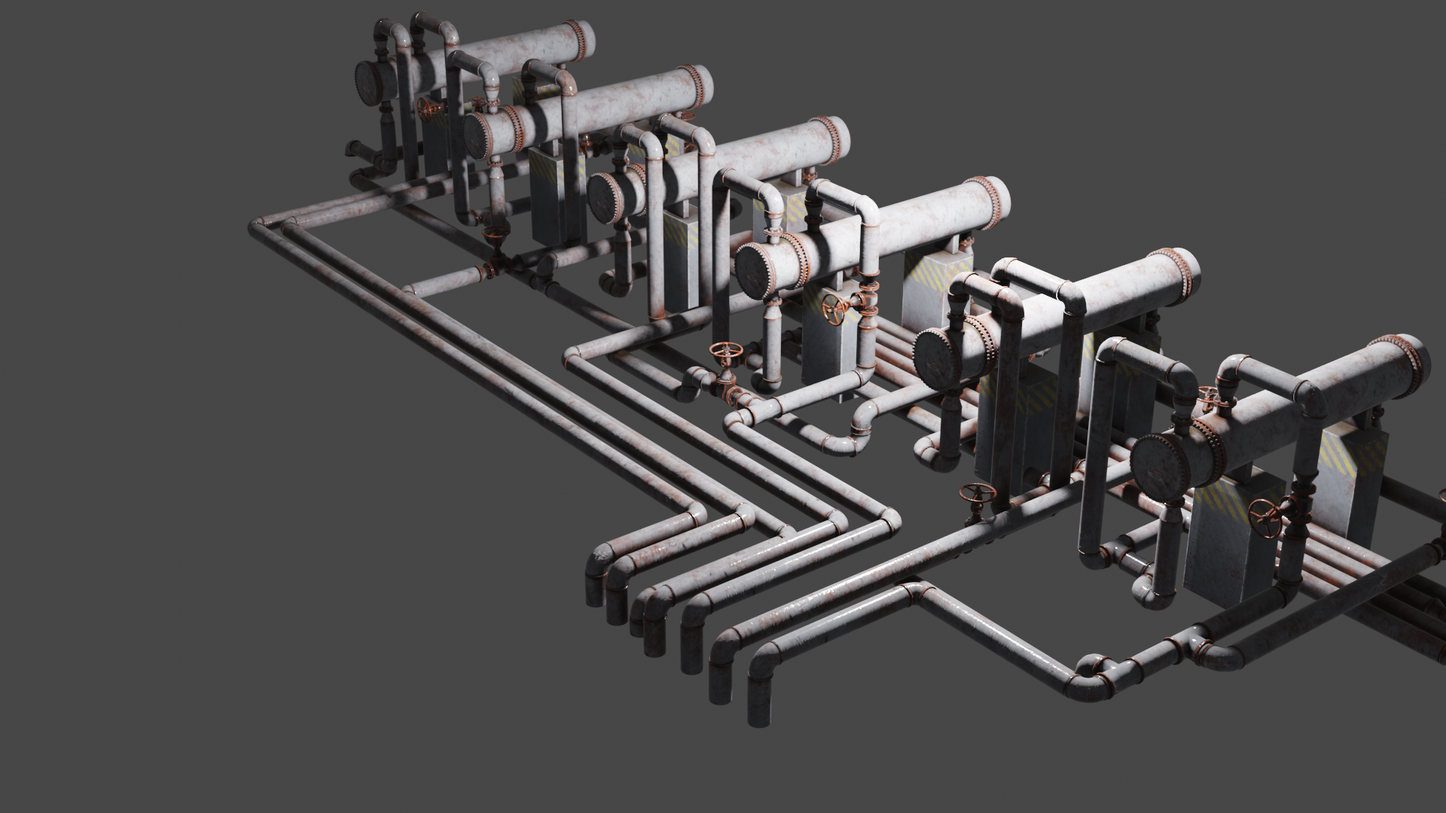HE_1: (348, 22, 595, 104)
HE_2: (464, 64, 716, 159)
HE_3: (581, 111, 849, 227)
HE_4: (734, 170, 1012, 298)
HE_5: (911, 242, 1204, 391)
HE_6: (1125, 327, 1430, 499)
